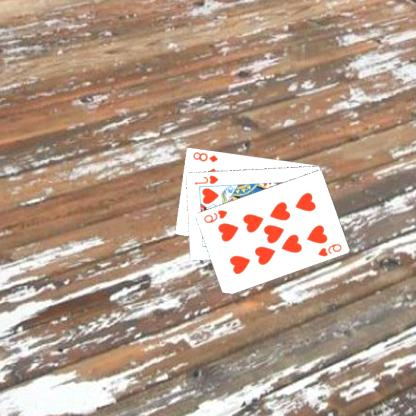8D: (192, 149, 221, 164)
9H: (316, 241, 344, 258), (203, 207, 230, 224)
JH: (194, 172, 221, 186)
